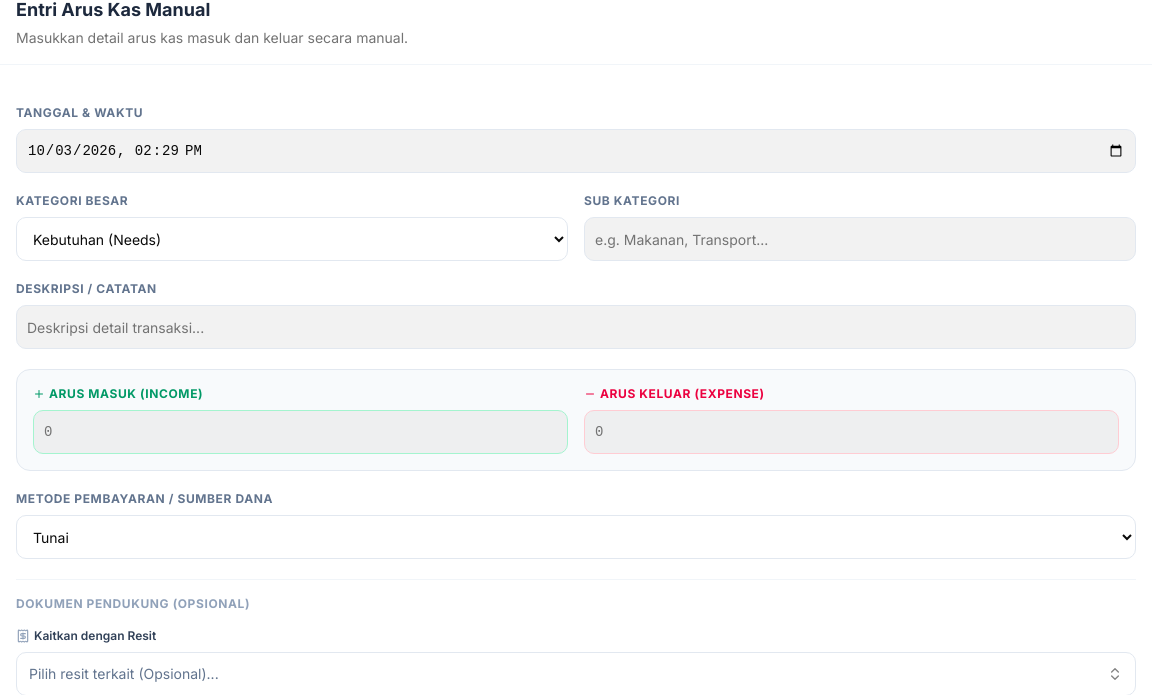
Scenario: CashFlowForm Component › shows error message if insert action returns failure
In the number field labelled "Arus Masuk (Income)": [300, 432] box x1=33 y1=410 x2=568 y2=454, type "50000"
(page scrolled)
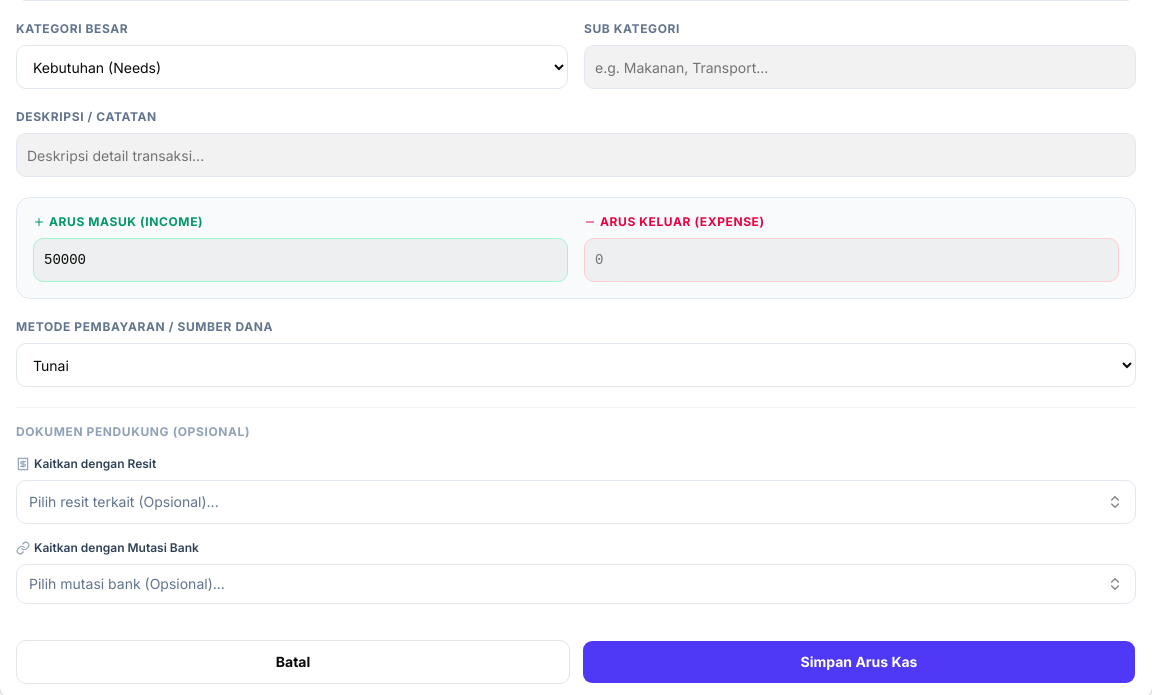
Click the button "Simpan Arus Kas": [859, 662] box x1=582 y1=640 x2=1136 y2=684
(page scrolled)
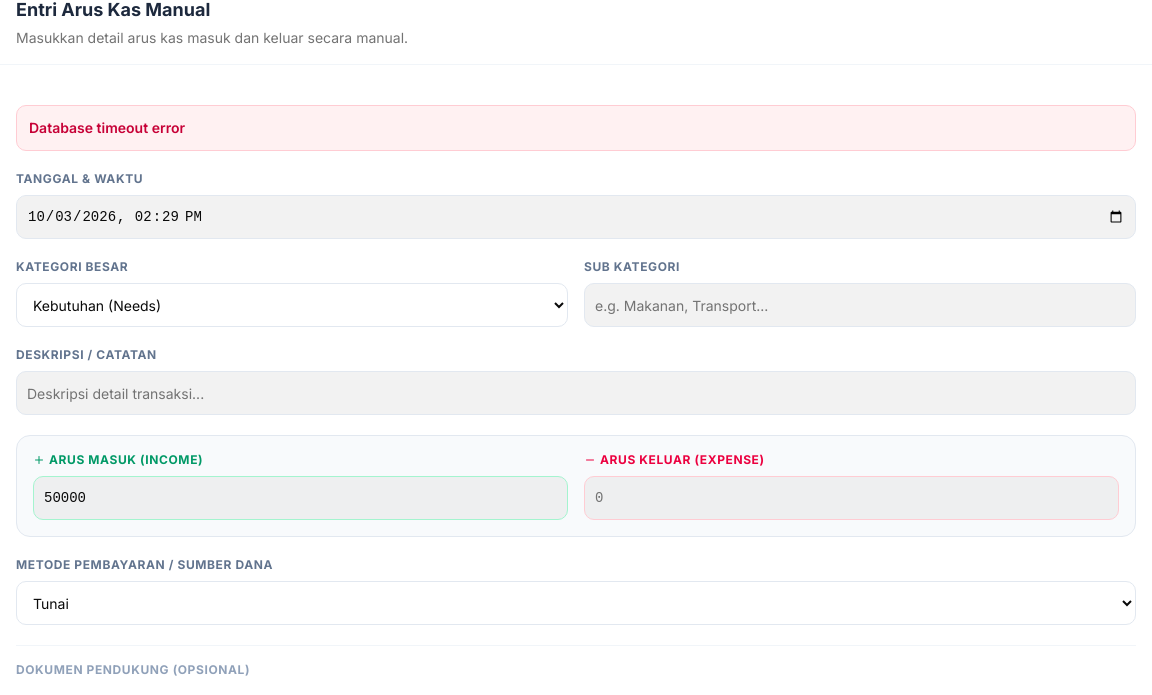
Now the text "Database timeout error" is shown, box x1=16 y1=105 x2=1136 y2=151
